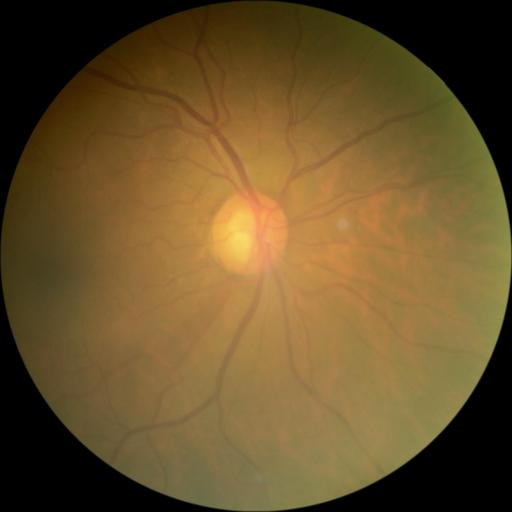Optic Cup: (227, 207, 268, 261)
Optic Disc: (211, 188, 291, 274)
